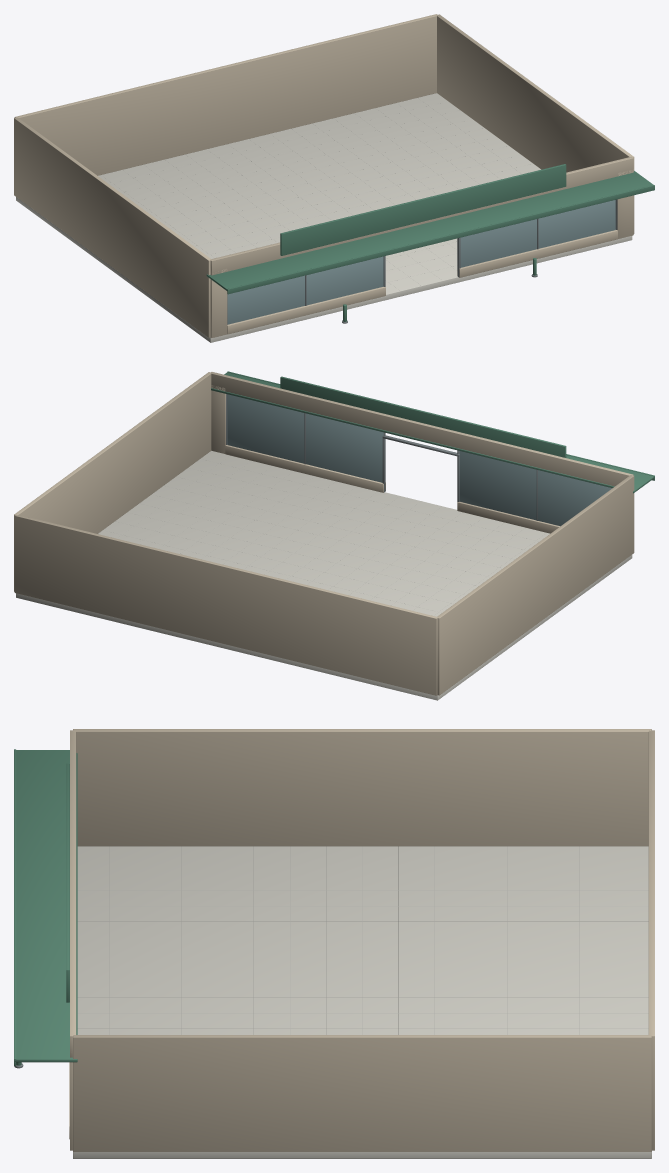
Rendered from store-shell.glb.
3 renders of one model, top to bottom at view 1: azimuth 30°, elevation 25°; view 2: azimuth 150°, elevation 25°; view 3: azimuth 270°, elevation 25°, orthographic. The views are drawn at different scales.
Visible parts, largest first — view 1: StoreShell; view 2: StoreShell; view 3: StoreShell.
Part boxes in pixels (x1,y1,x2,y2): StoreShell: [14, 14, 654, 342]; StoreShell: [14, 371, 654, 700]; StoreShell: [14, 729, 654, 1158].
Bounding box in the file's own units: 81 × 17 × 70.87.
